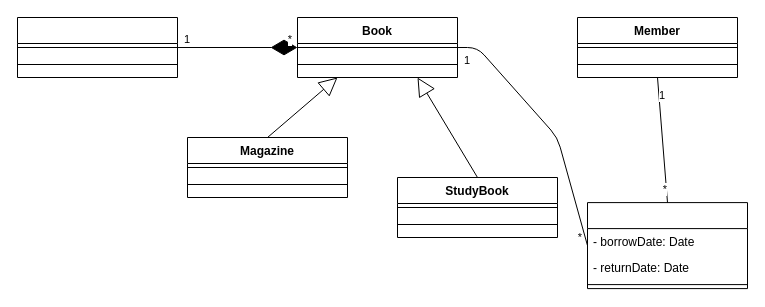
Some shapes in this 765 by 307 pixel diagram are drawn without their labels. Each missing label, with the box of its shape:
Library: (16, 16, 178, 78)
LoanRecord: (586, 202, 748, 289)
